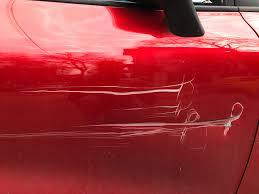scratch: (0, 67, 247, 143)
